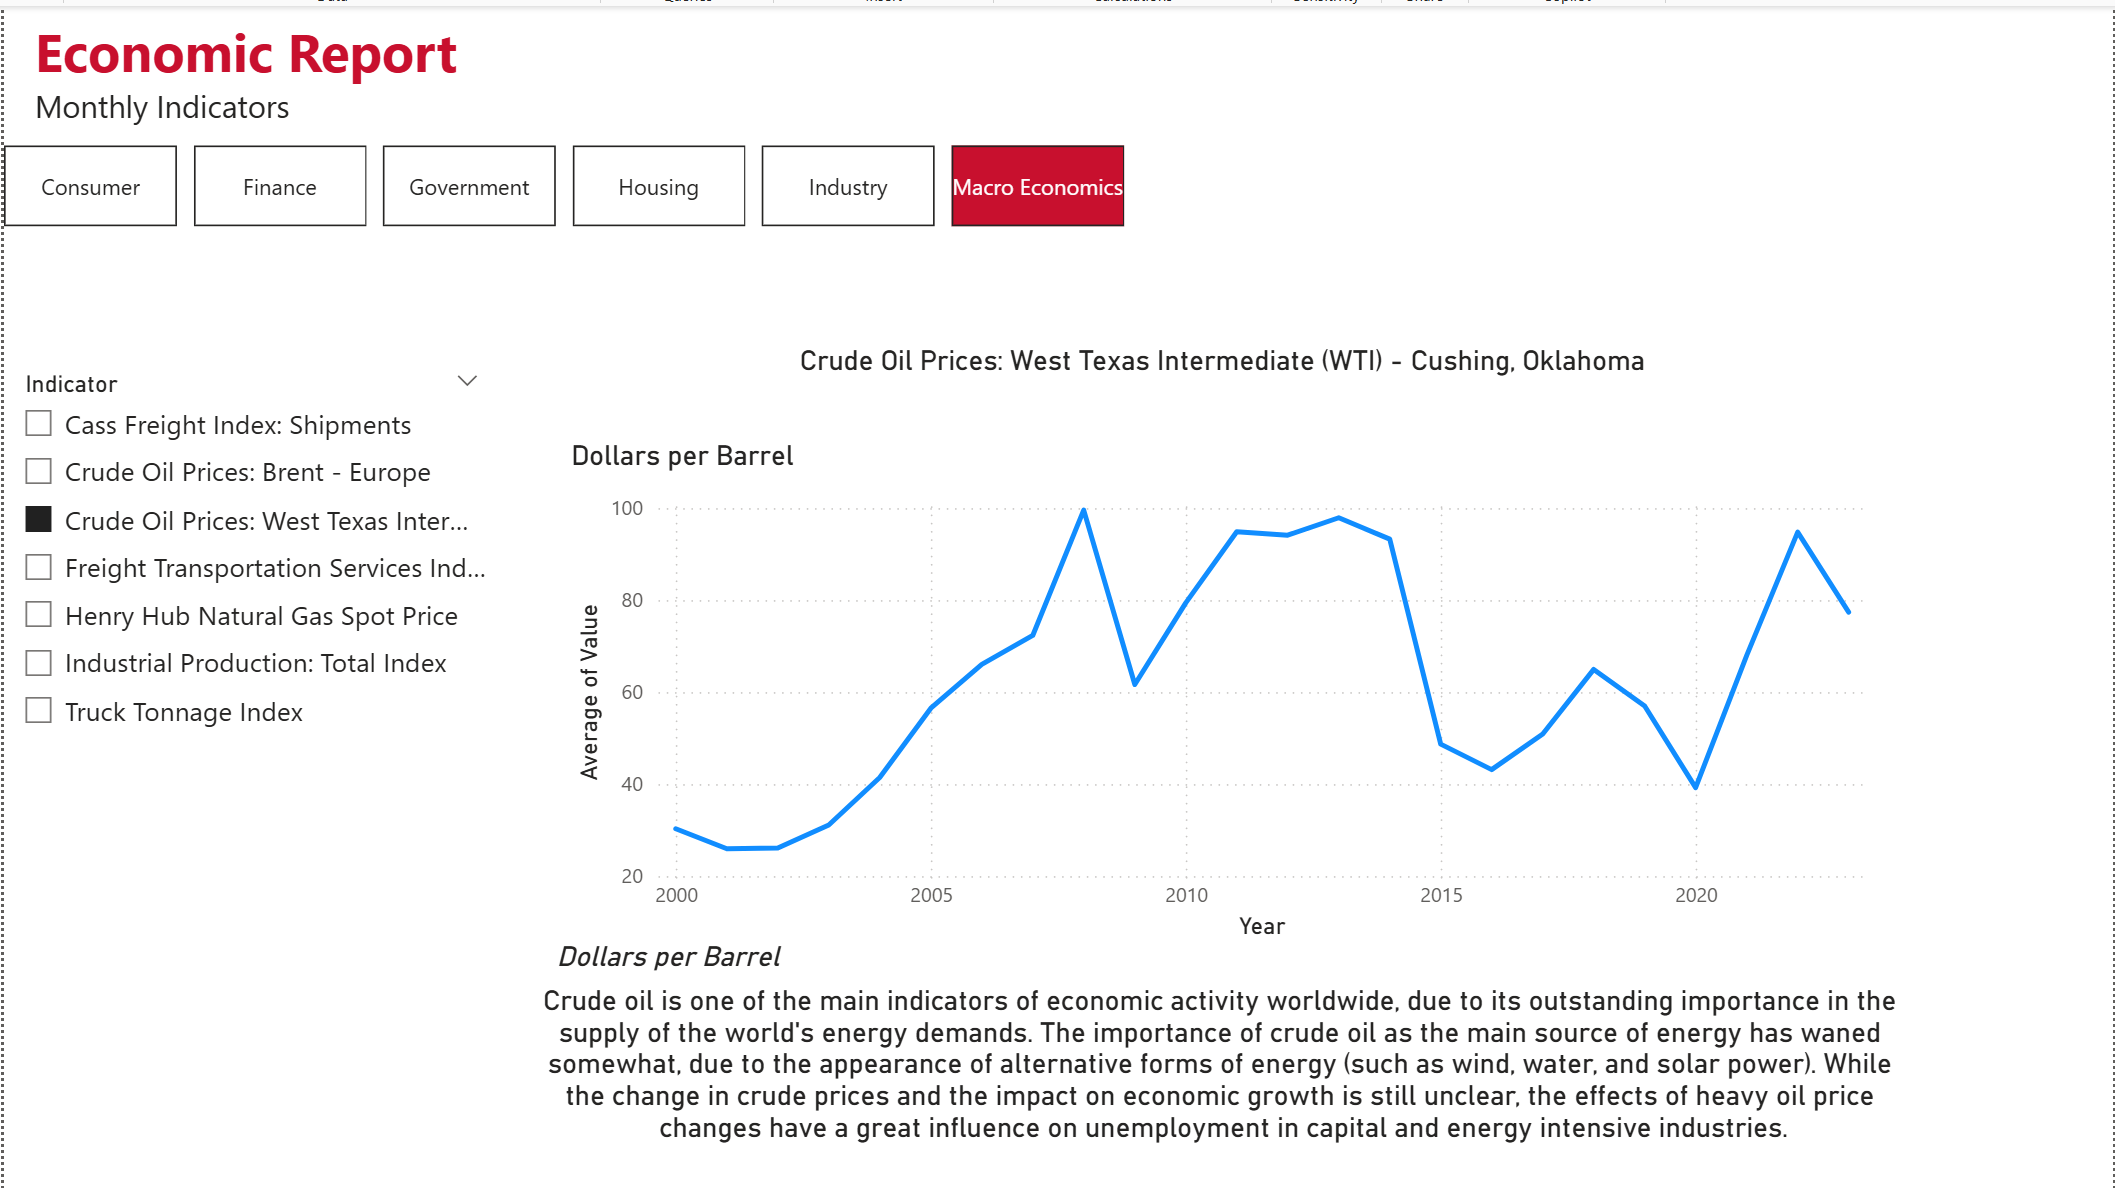

The page's visual inventory and layout, read from the dashboard file:
{"tool":"powerbi","page":{"name":"Macro Economics","canvas":[1280,720],"ordinal":5},"visuals":[{"type":"lineChart","fields":{"Category":["Complete Data.Date.Variation.Date Hierarchy.Year","Complete Data.Date.Variation.Date Hierarchy.Quarter","Complete Data.Date.Variation.Date Hierarchy.Month","Complete Data.Date.Variation.Date Hierarchy.Day"],"Y":["Avg(Complete Data.Value)"]},"box":[341.8,290.8,796,280.4],"z":0},{"type":"slicer","fields":{"Values":["Complete Data.Indicator"]},"box":[0,215.5,300.1,504],"z":1000},{"type":"textbox","box":[13.9,0,796,84.6],"z":2000},{"type":"pageNavigator","box":[0,84.6,683.7,49.8],"z":4000},{"type":"card","fields":{"Values":["Min(Complete Data.Footnote)"]},"box":[318.7,575.9,842.4,130.9],"z":5000},{"type":"card","fields":{"Values":["Min(Complete Data.Indicator)"]},"box":[448.4,157.6,582.8,115.9],"z":6000},{"type":"card","fields":{"Values":["Min(Complete Data.UOM)"]},"box":[303.6,254.9,216.7,35.9],"z":7000},{"type":"card","fields":{"Values":["Min(Complete Data.UOM)"]},"box":[303.6,563.1,199.3,25.5],"z":8000}]}

Visuals, with their boxes in screenshot pixels (x1, y1, x2, y2), scaled from the page's 1280x720 canvas onto the 2115x1188 screenshot:
lineChart - Complete Data.Date.Variation.Date Hierarchy.Year x Complete Data.Date.Variation.Date Hierarchy.Quarter: <bbox>565, 480, 1880, 942</bbox>
slicer - Complete Data.Indicator: <bbox>0, 356, 496, 1187</bbox>
textbox: <bbox>23, 0, 1338, 140</bbox>
pageNavigator: <bbox>0, 140, 1130, 222</bbox>
card - Min(Complete Data.Footnote): <bbox>527, 950, 1919, 1166</bbox>
card - Min(Complete Data.Indicator): <bbox>741, 260, 1704, 451</bbox>
card - Min(Complete Data.UOM): <bbox>502, 421, 860, 480</bbox>
card - Min(Complete Data.UOM): <bbox>502, 929, 831, 971</bbox>
